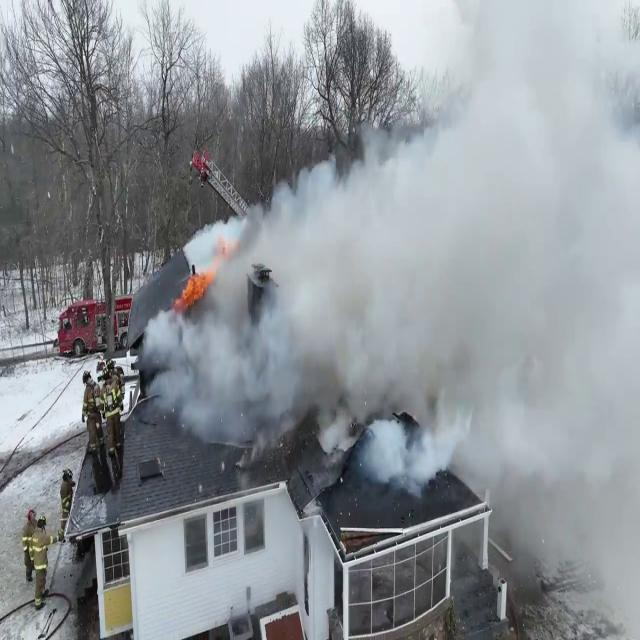Smoke: (149, 1, 640, 479)
